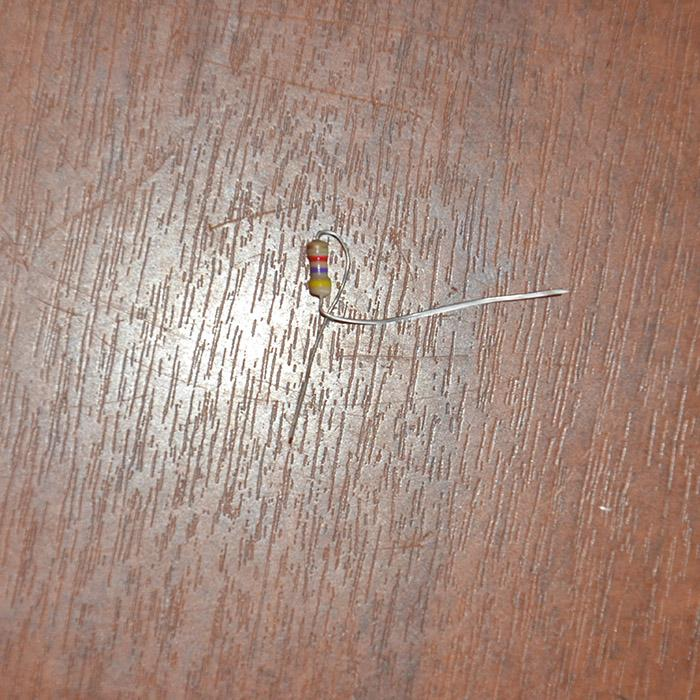resistor: (305, 238, 331, 298)
